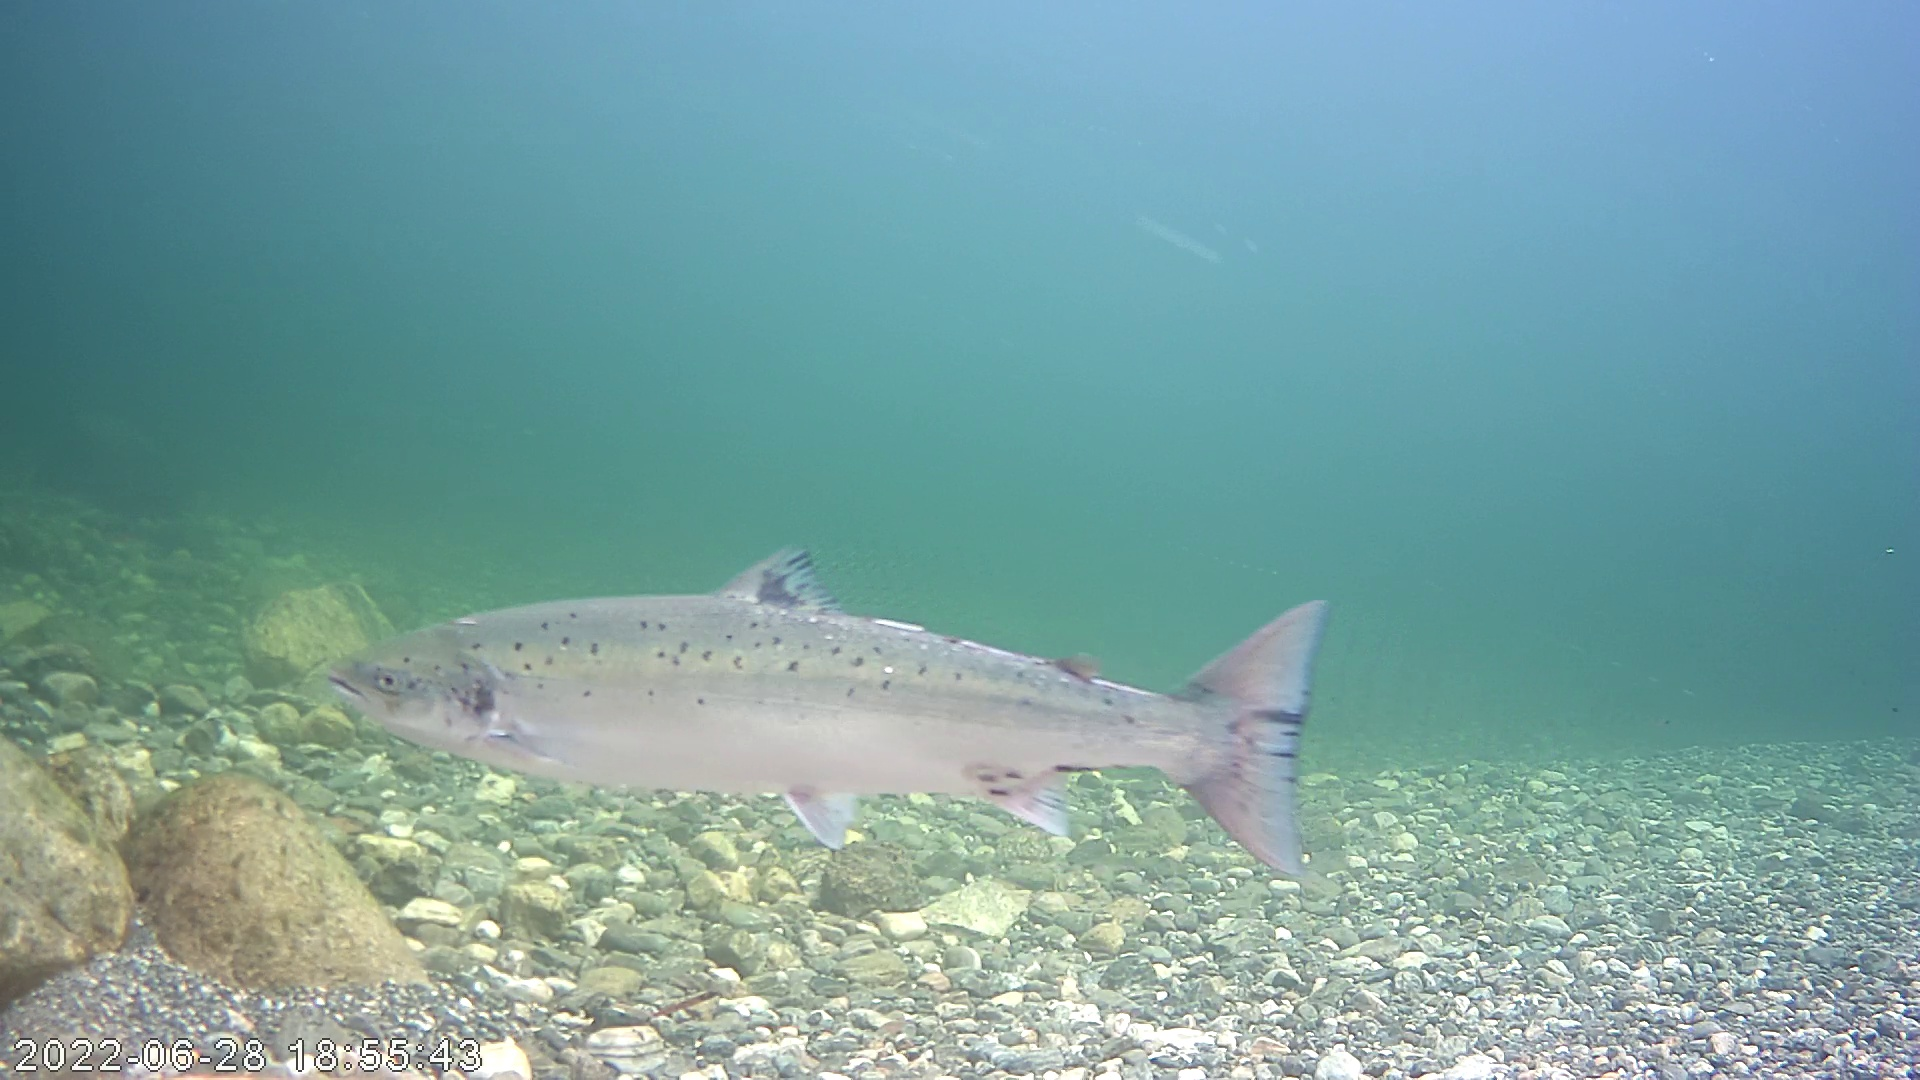salmon: (301, 531, 1341, 890)
